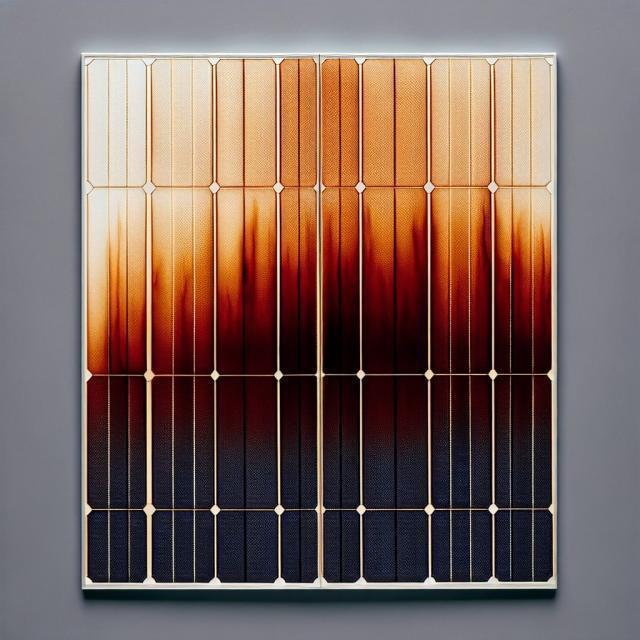Anomaly Solar Panel: (82, 56, 550, 582)
